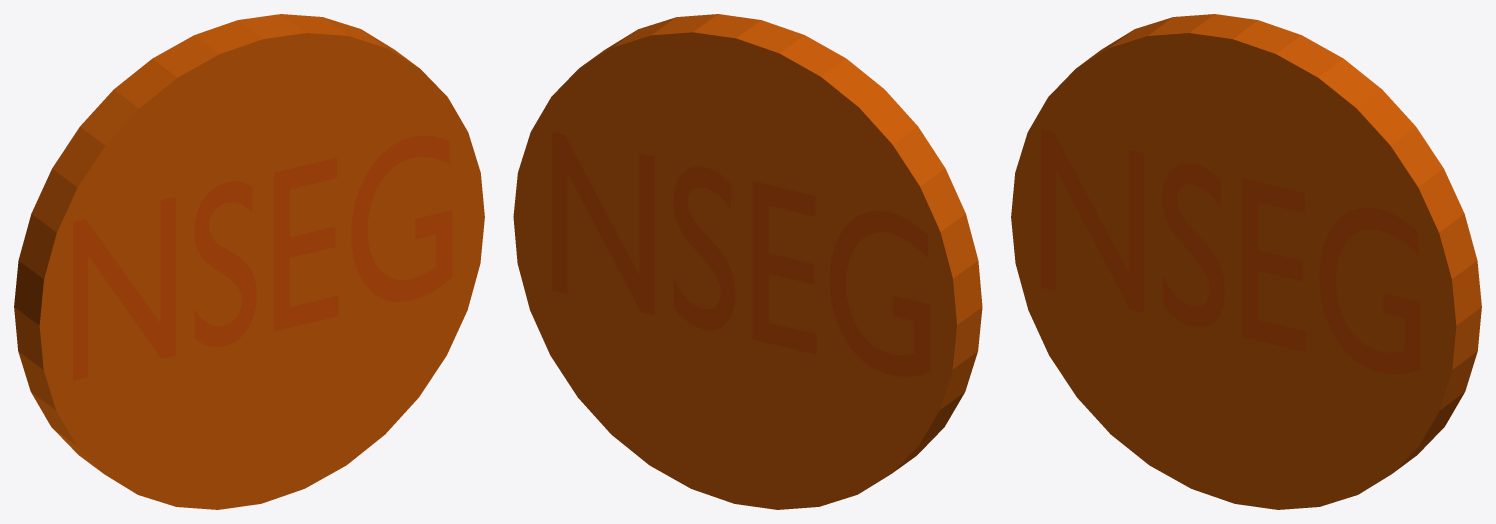
File: Coin.obj
3 views of the same model, side by side, from view 1: azimuth 30°, elevation 25°; view 2: azimuth 150°, elevation 25°; view 3: azimuth 330°, elevation 25° (orthographic).
Parts seen in each view (by area): view 1: Cylinder, NSEG_Text; view 2: Cylinder, NSEG.001_Text.001; view 3: Cylinder, NSEG_Text.
Boxes of the visible parts, x1,y1,x2,y2 form: Cylinder: (14, 14, 484, 509); NSEG_Text: (73, 135, 452, 380); Cylinder: (513, 14, 982, 509); NSEG.001_Text.001: (552, 132, 930, 376); Cylinder: (1011, 14, 1481, 509); NSEG_Text: (1041, 128, 1420, 374).
Size of the model in its own units: 2 by 2 by 0.2302.
